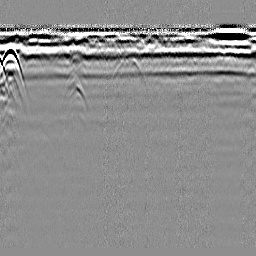cavity: (112, 53, 143, 84)
